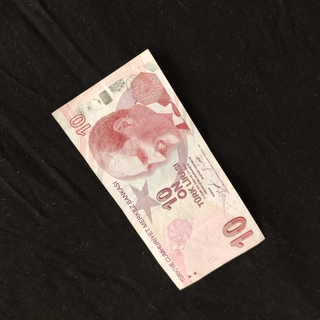10TLFront: (50, 46, 267, 291)
